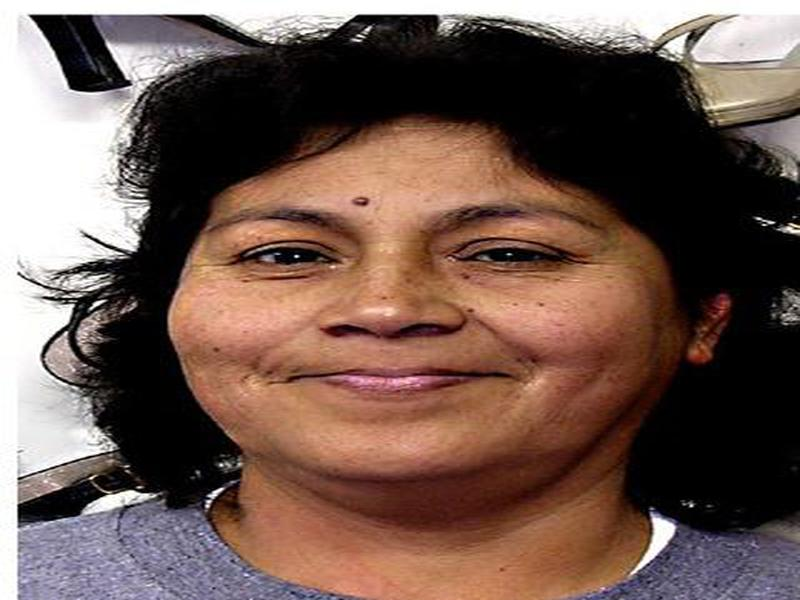without_mask: (166, 140, 663, 497)
